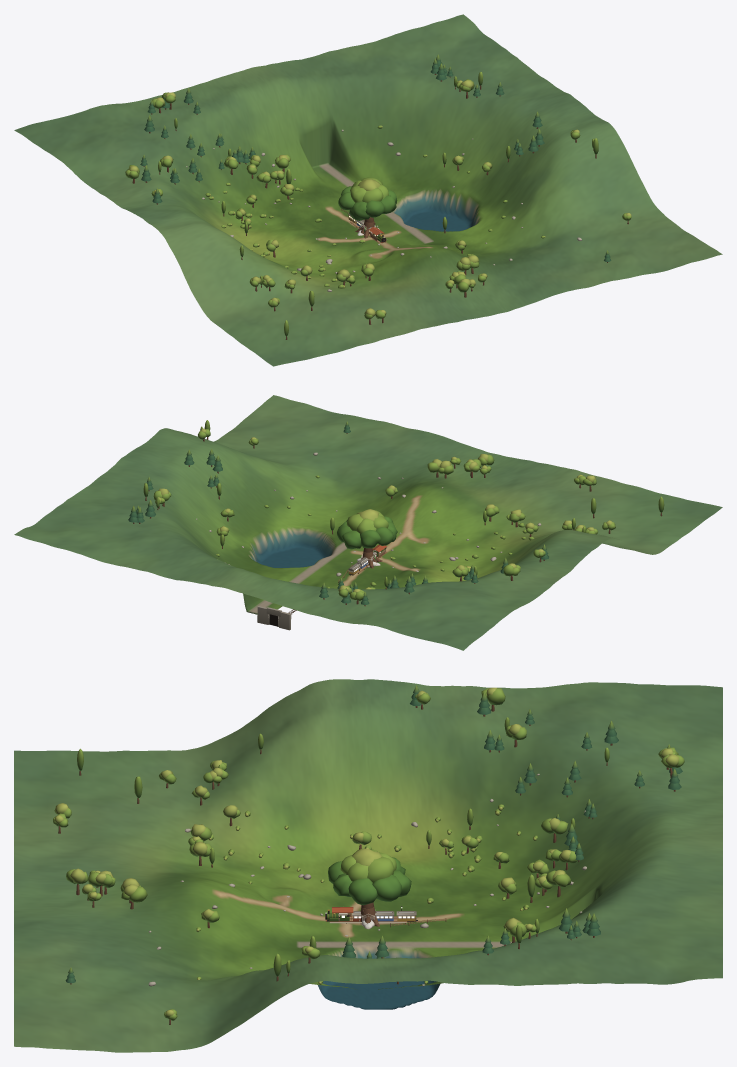
The model's file is valley.glb.
The picture shows the model from 3 angles, top to bottom: view 1: azimuth 30°, elevation 25°; view 2: azimuth 150°, elevation 25°; view 3: azimuth 270°, elevation 25°; orthographic projection. The views are drawn at different scales.
Visible parts, largest first — view 1: Terrain, Trees, Oak_Canopy; view 2: Terrain, Trees, Oak_Canopy, Station_Platform; view 3: Terrain, Trees, Oak_Canopy, Rocks.
Boxes of the visible parts, x1,y1,x2,y2 form: Terrain: (14,14,722,366); Trees: (125,54,631,339); Oak_Canopy: (338,177,397,220); Terrain: (14,395,722,650); Trees: (128,420,664,606); Oak_Canopy: (337,509,397,549); Station_Platform: (257,544,387,630); Terrain: (14,679,722,1052); Trees: (53,685,684,1024); Oak_Canopy: (328,848,411,905); Rocks: (148,773,586,986).
Size of the model in its own units: 192 by 40.72 by 192.
